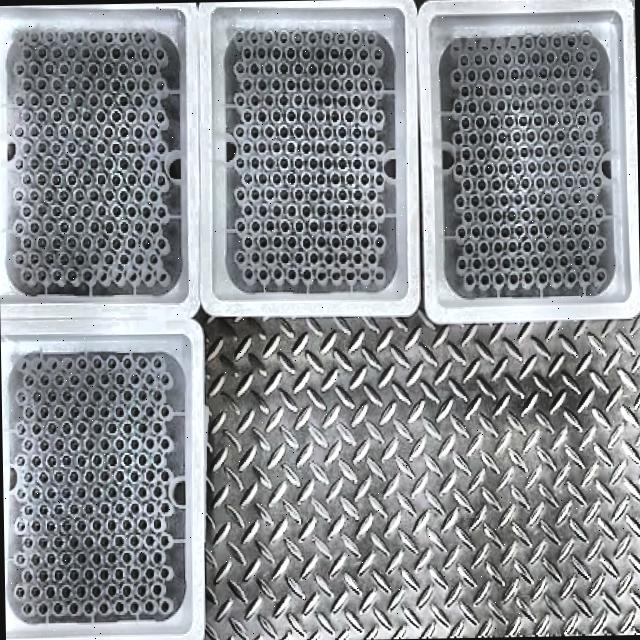vial: (0, 4, 199, 317), (248, 186, 260, 201), (144, 533, 156, 548), (155, 268, 168, 281), (485, 51, 498, 64), (50, 267, 62, 281), (328, 109, 340, 123), (158, 500, 170, 514), (68, 469, 79, 484), (21, 601, 32, 616), (15, 518, 25, 534), (488, 113, 500, 126), (143, 371, 155, 384), (160, 404, 172, 417), (76, 389, 88, 402), (83, 469, 95, 482), (13, 585, 25, 598), (94, 109, 105, 123), (95, 76, 105, 91), (154, 171, 164, 186), (263, 60, 273, 75), (543, 48, 553, 63), (49, 204, 61, 216), (349, 156, 361, 168), (241, 171, 253, 183), (500, 255, 512, 267), (524, 68, 536, 80), (80, 204, 91, 217), (155, 235, 166, 248), (82, 268, 93, 281), (371, 78, 382, 91), (373, 141, 384, 154), (327, 172, 340, 183), (328, 203, 339, 216), (569, 190, 580, 203), (486, 84, 499, 95), (75, 517, 86, 530), (132, 155, 142, 169), (141, 235, 151, 249), (596, 268, 606, 282), (548, 143, 558, 157), (160, 373, 170, 387), (53, 438, 63, 452), (115, 468, 125, 482), (156, 45, 165, 60), (154, 109, 165, 121), (94, 204, 106, 215), (110, 203, 121, 215), (321, 62, 332, 74), (350, 125, 361, 137), (328, 140, 339, 152), (300, 172, 311, 184), (579, 236, 590, 248), (549, 174, 560, 186), (152, 356, 163, 368), (150, 389, 161, 401), (99, 406, 110, 418), (52, 569, 63, 581), (123, 46, 133, 59), (131, 92, 141, 105), (89, 92, 99, 105), (65, 171, 75, 184), (81, 171, 91, 184), (67, 268, 77, 281), (20, 269, 33, 279), (128, 268, 138, 281), (336, 31, 346, 44), (351, 62, 361, 75), (337, 62, 347, 75), (241, 109, 251, 122), (271, 140, 281, 153), (250, 155, 260, 168), (299, 203, 309, 216), (359, 204, 369, 217), (265, 219, 275, 232), (250, 219, 260, 232), (301, 234, 311, 247), (564, 33, 574, 46), (524, 131, 534, 144), (453, 99, 463, 112), (122, 355, 132, 368), (61, 389, 71, 402), (114, 405, 124, 418), (152, 420, 162, 433), (83, 438, 93, 451), (127, 439, 140, 449), (107, 485, 117, 498), (84, 569, 94, 582), (158, 566, 168, 579), (121, 583, 131, 596), (105, 585, 115, 598), (30, 585, 40, 598), (118, 188, 127, 202), (373, 46, 382, 60), (350, 30, 359, 44), (30, 553, 39, 567), (130, 31, 141, 42), (101, 189, 112, 200), (234, 31, 245, 42), (365, 32, 376, 43), (525, 160, 536, 171), (21, 570, 32, 581), (139, 142, 149, 154), (133, 188, 143, 200), (58, 189, 68, 201), (88, 220, 98, 232), (328, 47, 338, 59), (300, 77, 310, 89), (234, 93, 244, 105), (256, 109, 266, 121), (358, 110, 368, 122), (233, 124, 243, 136), (234, 188, 244, 200), (367, 220, 377, 232), (308, 219, 318, 231), (257, 235, 267, 247), (300, 267, 310, 279), (595, 237, 605, 249), (537, 271, 547, 283), (466, 164, 476, 176), (576, 175, 586, 187), (576, 144, 586, 156), (143, 404, 153, 416), (83, 405, 93, 417), (107, 421, 117, 433), (68, 438, 78, 450), (159, 469, 169, 481), (137, 484, 147, 496), (137, 517, 147, 529), (151, 582, 161, 594), (110, 108, 119, 121), (111, 236, 120, 249), (293, 61, 302, 74), (235, 250, 244, 263), (324, 252, 333, 265), (530, 255, 539, 268), (452, 68, 461, 81), (100, 374, 109, 387), (69, 535, 78, 548), (99, 534, 108, 547), (114, 567, 123, 580), (45, 586, 54, 599), (69, 602, 78, 615), (120, 219, 128, 233), (242, 45, 250, 59), (577, 112, 585, 126), (47, 551, 55, 565), (101, 30, 111, 41), (102, 61, 112, 72), (132, 126, 142, 137), (156, 142, 166, 153), (125, 172, 135, 183), (88, 189, 98, 200), (133, 221, 143, 232), (147, 221, 157, 232), (112, 269, 123, 279), (343, 47, 353, 58), (366, 63, 376, 74), (327, 78, 338, 88), (307, 62, 317, 73), (241, 78, 252, 88), (367, 189, 377, 200), (280, 220, 290, 231), (272, 268, 282, 279), (578, 207, 588, 218), (470, 194, 480, 205), (517, 114, 528, 124), (460, 86, 470, 97), (572, 51, 583, 61), (129, 375, 139, 386), (61, 422, 71, 433), (137, 421, 147, 432), (98, 438, 108, 449), (60, 455, 71, 465), (99, 469, 109, 480), (53, 504, 63, 515), (137, 550, 147, 561), (14, 554, 24, 565), (98, 569, 108, 580), (110, 46, 119, 58), (118, 62, 127, 74), (88, 125, 97, 137), (140, 173, 149, 185), (149, 189, 158, 201), (96, 236, 105, 248), (119, 252, 128, 264), (89, 251, 98, 263), (343, 78, 352, 90), (286, 77, 295, 89), (234, 60, 243, 72), (366, 94, 375, 106), (306, 93, 315, 105), (279, 125, 288, 137), (286, 172, 295, 184), (279, 187, 288, 199), (351, 220, 360, 232), (236, 219, 245, 231), (242, 235, 251, 247), (264, 251, 273, 263), (551, 238, 560, 250), (536, 240, 545, 252), (544, 256, 553, 268), (552, 269, 561, 281), (522, 240, 531, 252), (464, 241, 473, 253), (594, 206, 603, 218), (485, 195, 494, 207), (535, 176, 544, 188), (556, 161, 565, 173), (512, 160, 521, 172), (533, 114, 542, 126), (554, 97, 563, 109), (590, 80, 599, 92), (573, 81, 585, 90), (503, 83, 512, 95), (482, 69, 491, 81), (552, 66, 561, 78), (560, 51, 569, 63), (130, 404, 139, 416), (107, 357, 116, 369), (69, 405, 78, 417), (137, 453, 146, 465), (92, 454, 101, 466), (45, 486, 54, 498), (69, 569, 78, 581), (129, 568, 138, 580), (91, 585, 100, 597), (75, 585, 84, 597), (37, 602, 46, 614), (99, 601, 108, 613), (52, 235, 59, 250), (111, 172, 119, 185), (291, 30, 299, 43), (265, 155, 273, 168), (250, 250, 258, 263), (496, 67, 504, 80), (53, 406, 61, 419), (92, 551, 100, 564), (52, 602, 60, 615), (133, 62, 143, 72), (73, 156, 83, 166), (111, 143, 121, 153), (96, 172, 106, 182), (124, 205, 134, 215), (58, 252, 68, 262), (279, 253, 289, 263), (463, 272, 473, 282), (528, 224, 538, 234), (513, 224, 523, 234), (521, 209, 531, 219), (462, 210, 472, 220), (542, 192, 552, 202), (585, 192, 595, 202), (517, 145, 527, 155), (540, 161, 550, 171), (547, 114, 557, 124), (474, 117, 484, 127), (136, 389, 146, 399), (76, 456, 86, 466), (38, 471, 48, 481), (23, 472, 33, 482), (75, 487, 85, 497), (22, 504, 32, 514), (38, 504, 48, 514), (61, 518, 71, 528), (30, 519, 40, 529), (105, 550, 115, 560), (60, 586, 70, 596), (147, 95, 156, 106), (103, 220, 112, 231), (81, 237, 90, 248), (149, 252, 158, 263), (357, 78, 366, 89), (257, 78, 266, 89), (271, 78, 280, 89), (337, 95, 346, 106), (286, 109, 295, 120), (301, 110, 310, 121), (235, 157, 244, 168), (344, 142, 353, 153), (258, 204, 267, 215), (375, 235, 384, 246), (360, 235, 369, 246), (316, 236, 325, 247), (272, 235, 281, 246), (294, 251, 303, 262), (309, 251, 318, 262), (258, 268, 267, 279), (507, 241, 516, 252), (522, 270, 531, 281), (508, 272, 517, 283), (492, 241, 501, 252), (549, 209, 558, 220), (564, 176, 573, 187), (476, 179, 485, 190), (491, 146, 500, 157), (512, 131, 521, 142), (563, 145, 572, 156), (466, 99, 475, 110), (509, 67, 518, 78), (137, 357, 146, 368), (83, 374, 92, 385), (77, 422, 86, 433), (122, 454, 131, 465), (145, 470, 154, 481), (69, 504, 78, 515), (129, 501, 138, 512), (144, 501, 153, 512), (106, 518, 115, 529), (114, 534, 123, 545), (38, 570, 47, 581), (129, 601, 138, 612), (159, 599, 166, 613), (119, 93, 127, 105), (102, 126, 110, 138), (133, 250, 141, 262), (37, 268, 45, 280), (103, 251, 111, 263), (308, 31, 316, 43), (351, 94, 359, 106), (322, 93, 330, 105), (373, 110, 381, 122), (241, 140, 249, 152), (346, 204, 354, 216), (368, 251, 376, 263), (515, 255, 523, 267), (499, 193, 507, 205), (527, 191, 535, 203), (532, 81, 540, 93), (517, 52, 525, 64), (116, 373, 124, 385), (93, 421, 101, 433), (122, 550, 130, 562), (89, 30, 96, 43), (28, 251, 35, 264), (467, 66, 474, 79), (53, 470, 60, 483), (102, 158, 112, 167), (140, 204, 149, 214), (277, 94, 286, 104), (320, 126, 329, 136), (308, 126, 317, 136), (257, 142, 266, 152), (308, 157, 317, 167), (337, 157, 346, 167), (358, 142, 368, 151), (257, 173, 266, 183), (345, 173, 354, 183), (374, 172, 383, 182), (353, 189, 362, 199), (323, 188, 332, 198), (264, 187, 273, 197), (242, 204, 251, 214), (272, 204, 281, 214), (287, 236, 296, 246), (588, 254, 597, 264), (574, 254, 583, 264), (567, 271, 576, 281), (486, 257, 495, 267), (587, 223, 596, 233), (557, 223, 566, 233), (456, 227, 465, 237), (506, 211, 515, 221), (492, 210, 501, 220), (505, 178, 514, 188), (483, 131, 492, 141), (459, 115, 468, 125), (569, 97, 578, 107), (495, 98, 504, 108), (568, 66, 577, 76), (70, 374, 79, 384), (92, 390, 101, 400), (122, 422, 131, 432), (113, 439, 122, 449), (45, 455, 54, 465), (60, 487, 70, 496), (84, 503, 93, 513), (116, 504, 125, 514), (91, 518, 100, 528), (46, 520, 55, 530), (39, 537, 48, 547), (143, 566, 152, 576), (136, 584, 145, 594), (123, 77, 131, 88), (119, 125, 127, 136), (149, 126, 157, 137), (320, 31, 328, 42), (279, 61, 287, 72), (249, 62, 257, 73), (249, 93, 257, 104), (271, 109, 279, 120), (338, 126, 346, 137), (294, 125, 302, 136), (302, 141, 310, 152), (292, 156, 300, 167), (294, 187, 302, 198), (338, 219, 346, 230), (472, 258, 480, 269), (486, 225, 494, 236), (505, 146, 513, 157), (540, 129, 548, 140), (46, 421, 54, 432), (145, 437, 153, 448), (144, 599, 152, 610), (111, 77, 118, 89), (120, 157, 127, 169), (74, 251, 81, 263), (287, 46, 294, 58), (280, 156, 287, 168), (243, 266, 250, 278), (92, 485, 99, 497), (32, 486, 39, 498), (159, 533, 166, 545), (66, 237, 75, 246), (344, 111, 353, 120), (338, 189, 347, 198), (566, 240, 575, 249), (479, 274, 488, 283), (543, 224, 552, 233), (554, 128, 563, 137), (539, 98, 548, 107), (516, 82, 525, 91), (140, 47, 148, 57), (148, 63, 156, 73), (140, 78, 148, 88), (125, 108, 133, 118), (60, 157, 68, 167), (127, 236, 135, 246), (41, 252, 49, 262), (300, 48, 308, 58), (315, 47, 323, 57), (315, 110, 323, 120), (249, 126, 257, 136), (322, 157, 330, 167), (367, 158, 375, 168), (316, 173, 324, 183), (309, 190, 317, 200), (374, 205, 382, 215), (323, 221, 331, 231), (346, 237, 354, 247), (338, 252, 346, 262), (287, 269, 295, 279), (582, 269, 590, 279), (457, 258, 465, 268), (475, 148, 483, 158), (484, 164, 492, 174), (468, 130, 476, 140), (526, 98, 534, 108), (510, 98, 518, 108), (562, 82, 570, 92), (545, 81, 553, 91), (538, 66, 546, 76), (589, 51, 597, 61), (474, 54, 482, 64), (123, 390, 131, 400), (107, 390, 115, 400), (160, 435, 170, 443), (108, 455, 116, 465), (33, 457, 41, 467), (123, 486, 131, 496), (151, 519, 161, 527), (122, 517, 130, 527), (53, 535, 61, 545), (83, 536, 91, 546), (150, 157, 157, 168), (257, 47, 264, 58), (272, 47, 279, 58), (316, 79, 323, 90), (316, 141, 323, 152), (317, 205, 324, 216), (295, 220, 302, 231), (353, 251, 360, 262), (513, 193, 520, 204), (153, 486, 160, 497), (129, 534, 136, 545), (84, 602, 91, 613), (72, 222, 81, 230), (264, 93, 272, 102), (264, 125, 272, 134), (287, 141, 295, 150), (271, 171, 280, 179), (317, 272, 326, 280), (559, 256, 568, 264), (493, 274, 502, 282), (471, 226, 479, 235), (478, 212, 486, 221), (520, 178, 529, 186), (461, 146, 467, 158), (454, 133, 462, 142), (504, 115, 513, 123), (498, 131, 504, 143), (93, 358, 101, 367), (152, 453, 161, 461), (130, 472, 138, 481), (99, 503, 108, 511), (62, 551, 68, 563), (114, 601, 120, 613), (90, 158, 97, 168), (126, 141, 133, 151), (43, 188, 50, 198), (156, 204, 163, 214), (57, 222, 67, 229), (358, 47, 365, 57), (367, 127, 374, 137), (359, 173, 366, 183), (287, 205, 294, 215), (330, 235, 337, 245), (479, 241, 486, 251), (566, 208, 573, 218), (497, 162, 504, 172), (570, 159, 577, 169), (535, 145, 542, 155), (569, 128, 579, 135), (483, 100, 490, 110), (503, 52, 510, 62), (24, 537, 31, 547), (456, 163, 462, 174), (583, 66, 589, 77), (153, 550, 159, 561), (73, 188, 81, 196), (66, 206, 74, 214), (572, 223, 580, 231), (536, 211, 544, 219), (459, 53, 467, 61), (119, 31, 126, 40), (457, 196, 464, 205), (558, 191, 565, 200), (475, 86, 482, 95), (530, 53, 537, 62), (140, 111, 146, 121), (294, 94, 300, 104), (77, 551, 83, 561), (97, 269, 105, 276), (493, 179, 499, 188), (563, 114, 569, 123), (51, 172, 59, 178), (143, 270, 149, 278), (501, 226, 507, 234), (464, 178, 469, 187), (102, 95, 107, 102)
